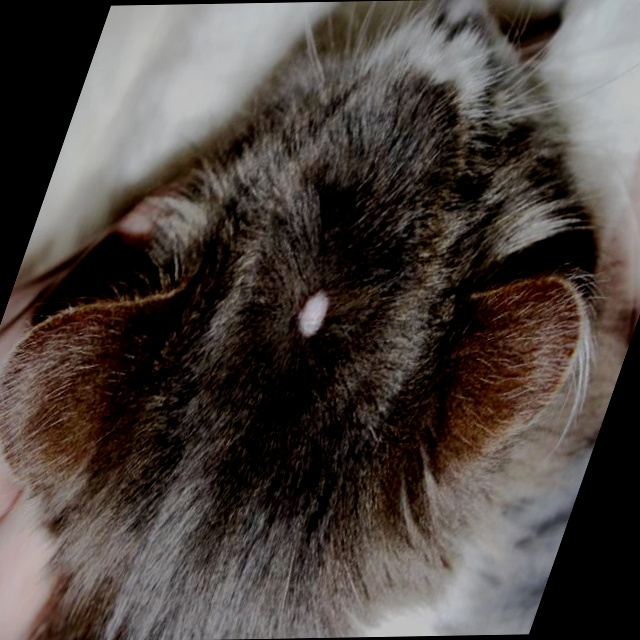lump_and_bump: (290, 290, 332, 342)
